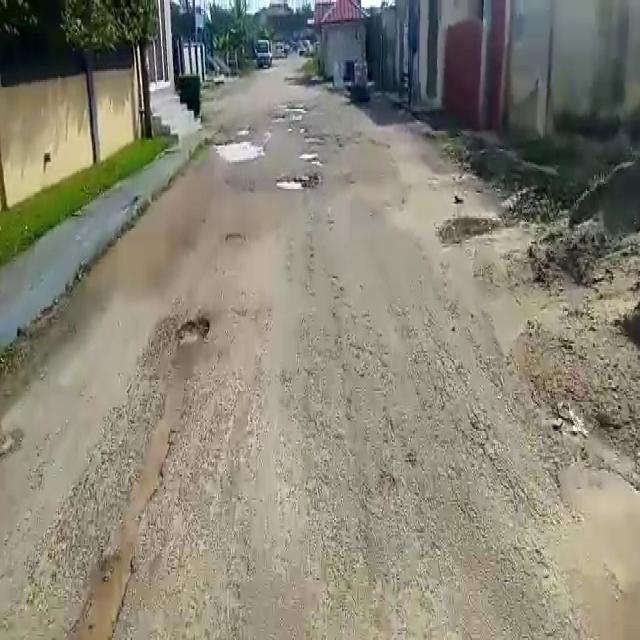Pothole: (214, 138, 265, 161), (174, 314, 210, 342), (274, 176, 310, 192), (302, 150, 323, 161)
